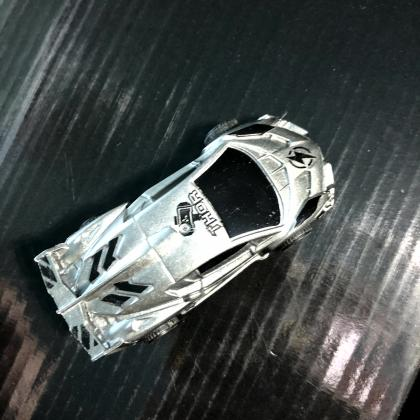Car: (33, 115, 336, 362)
